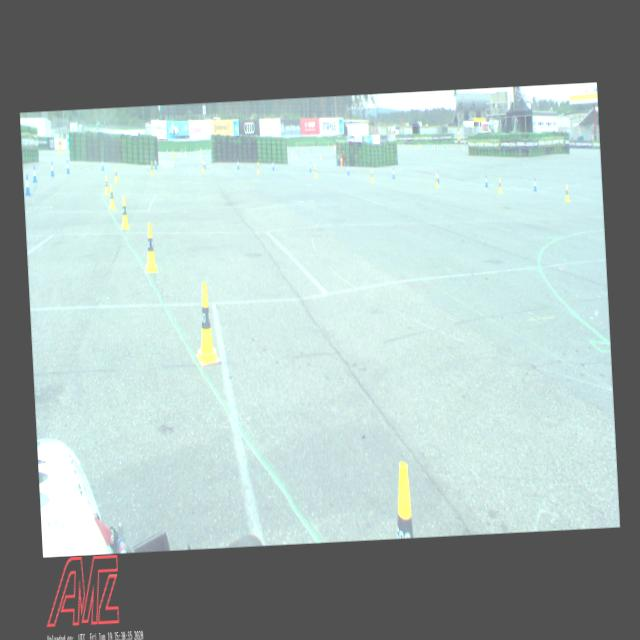blue_cone: (24, 174, 31, 195), (32, 165, 38, 182), (50, 161, 54, 177), (532, 178, 536, 192), (66, 160, 70, 173), (100, 158, 104, 171), (484, 175, 488, 188), (436, 170, 439, 183), (203, 158, 206, 170), (154, 158, 157, 169), (237, 159, 240, 170), (392, 168, 395, 179), (346, 165, 349, 176), (309, 162, 312, 172), (272, 160, 274, 170)
yellow_cone: (193, 283, 220, 367), (393, 462, 413, 539), (144, 222, 158, 272), (120, 196, 130, 230), (108, 183, 116, 210), (104, 176, 110, 196), (564, 185, 570, 202), (498, 178, 502, 194), (434, 173, 438, 188), (115, 167, 118, 183), (370, 170, 374, 182), (256, 162, 260, 174), (202, 160, 205, 173), (151, 162, 154, 174), (314, 165, 316, 178)
